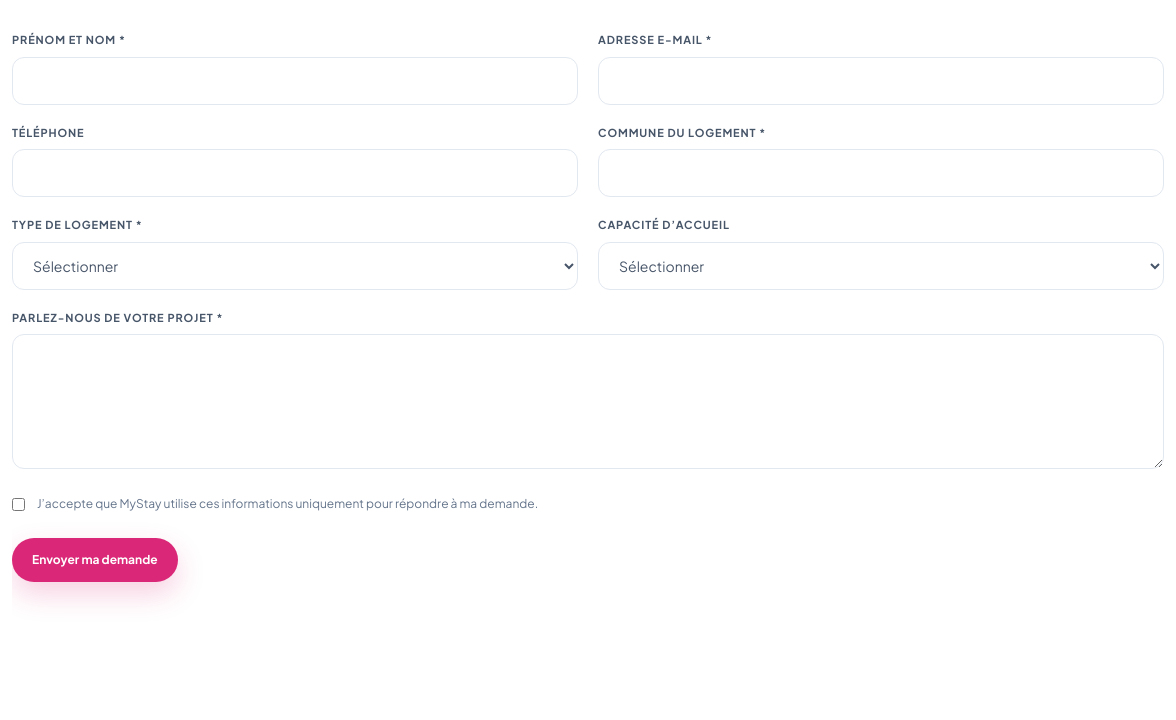
Test: 031 AC-04-03 owner lead form › submits to the public API and renders the exact success message
This screenshot has width=1176, height=720.
Type "Marie Dupont" into the field labelled "Prénom et nom *".
click(295, 80); type("Marie Dupont")  # box [12,56,578,104]
Type "marie@example.test" into the field labelled "Adresse e-mail *".
click(881, 80); type("marie@example.test")  # box [598,56,1164,104]
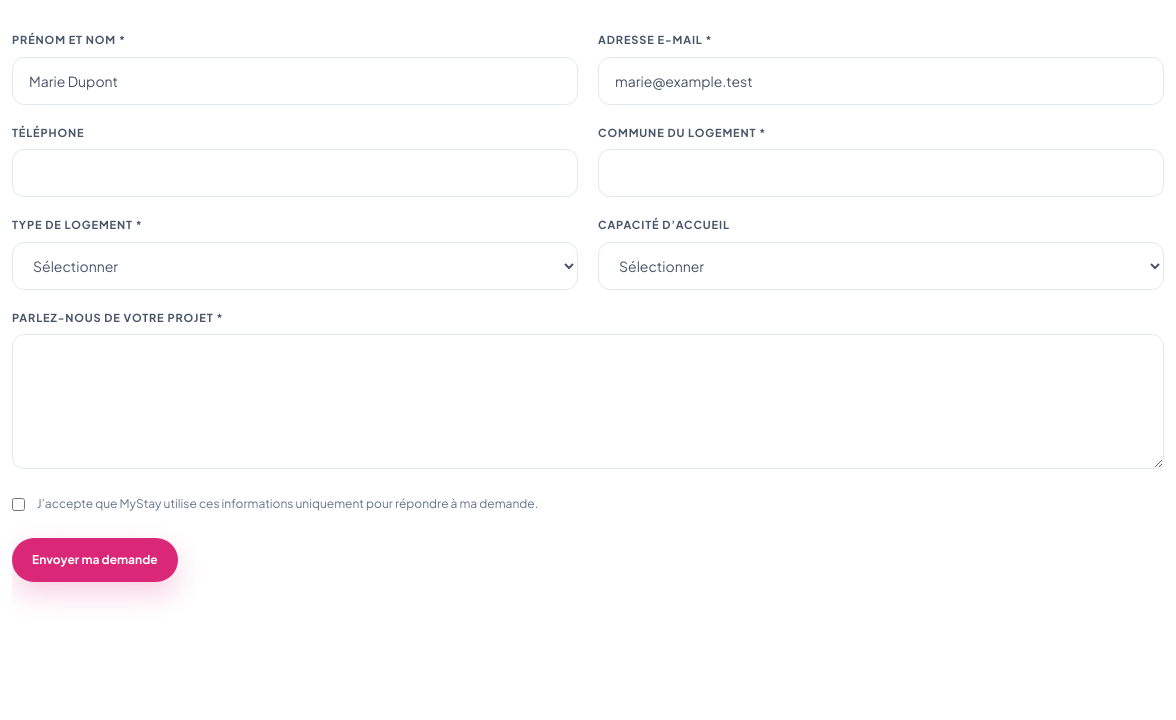
Type "Saint-Nicolas-de-Véroce" into the field labelled "Commune du logement *".
click(881, 173); type("Saint-Nicolas-de-Véroce")  # box [598,149,1164,197]
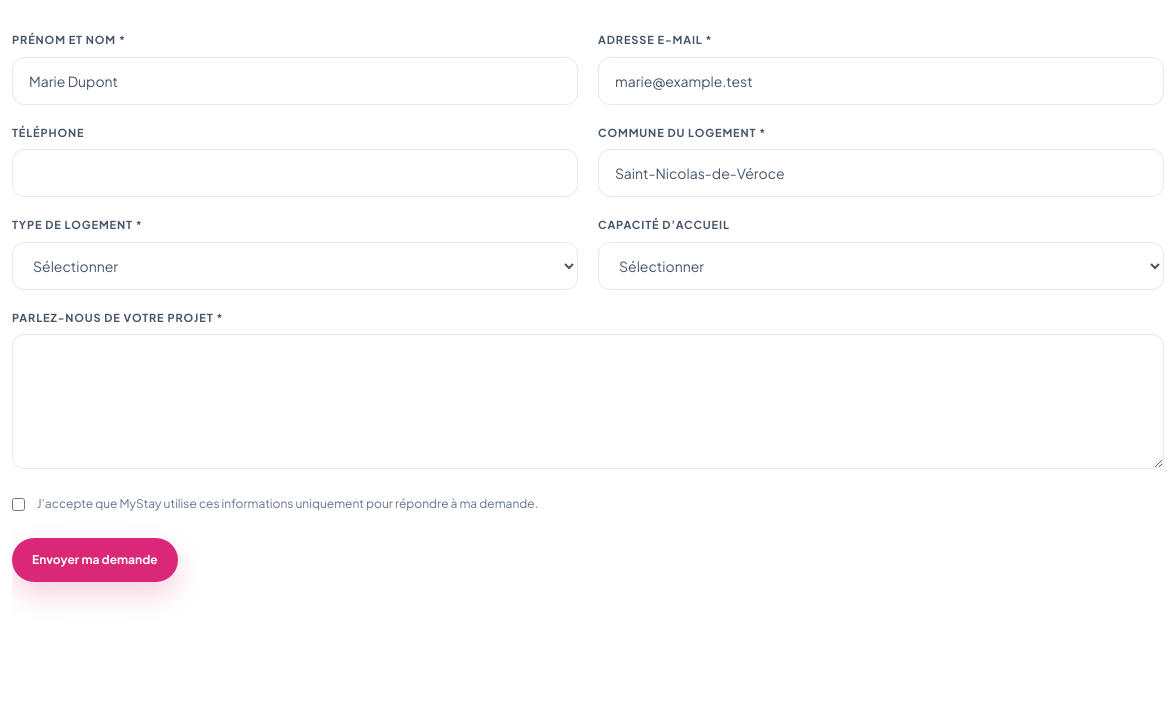
Select "Chalet" in the dropdown labelled "Type de logement *" at (295, 266), box [12,242,578,290]
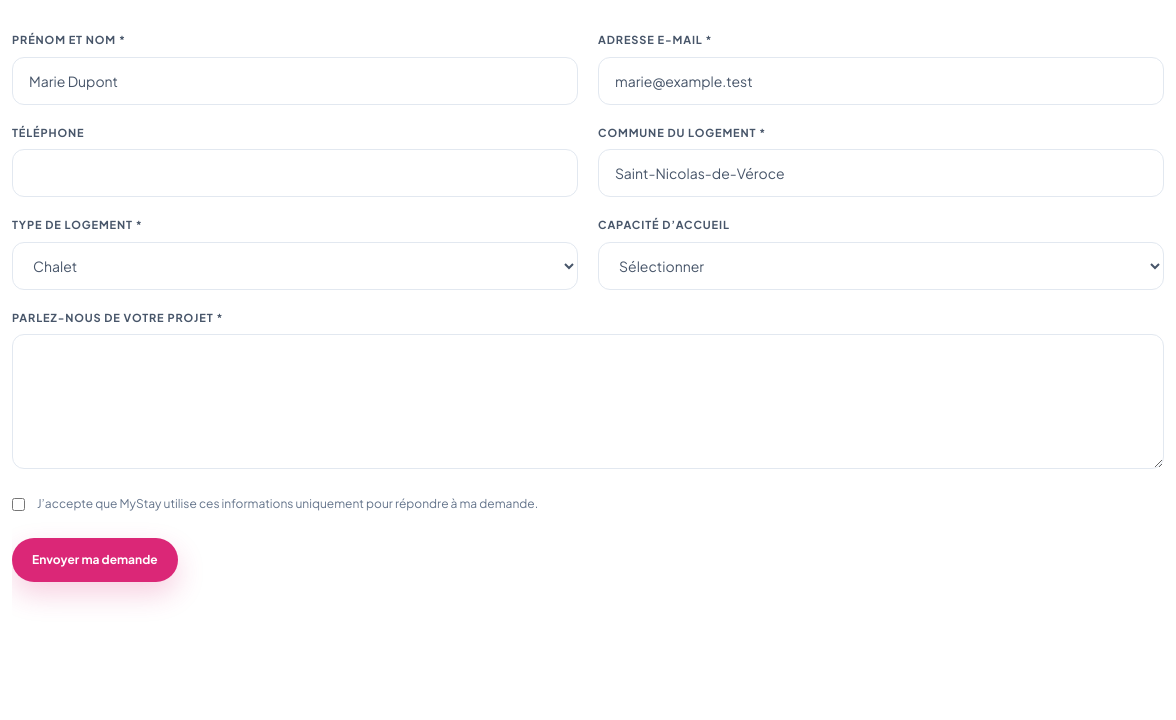
Type "Je souhaite déléguer la gestion de mon chalet." into the text box labelled "Parlez-nous de votre projet *".
click(588, 402); type("Je souhaite déléguer la gestion de mon chalet.")  # box [12,334,1164,469]
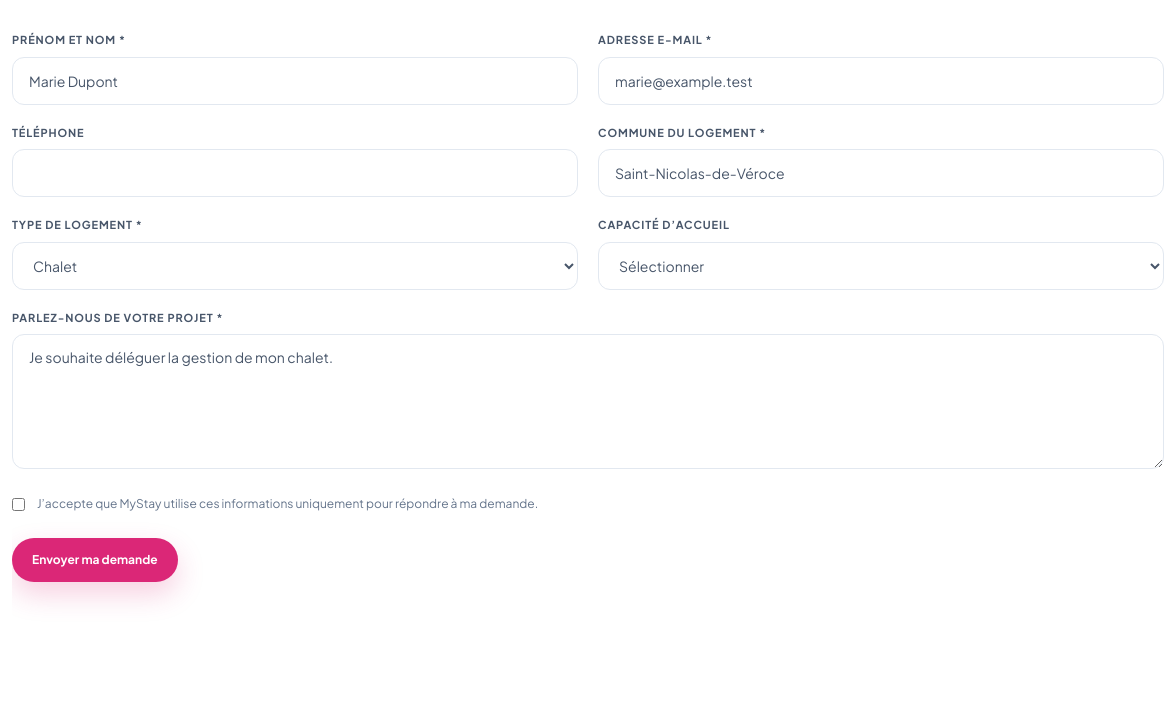
Click the checkbox labelled "J’accepte".
click(18, 504)  # box [12,498,25,510]
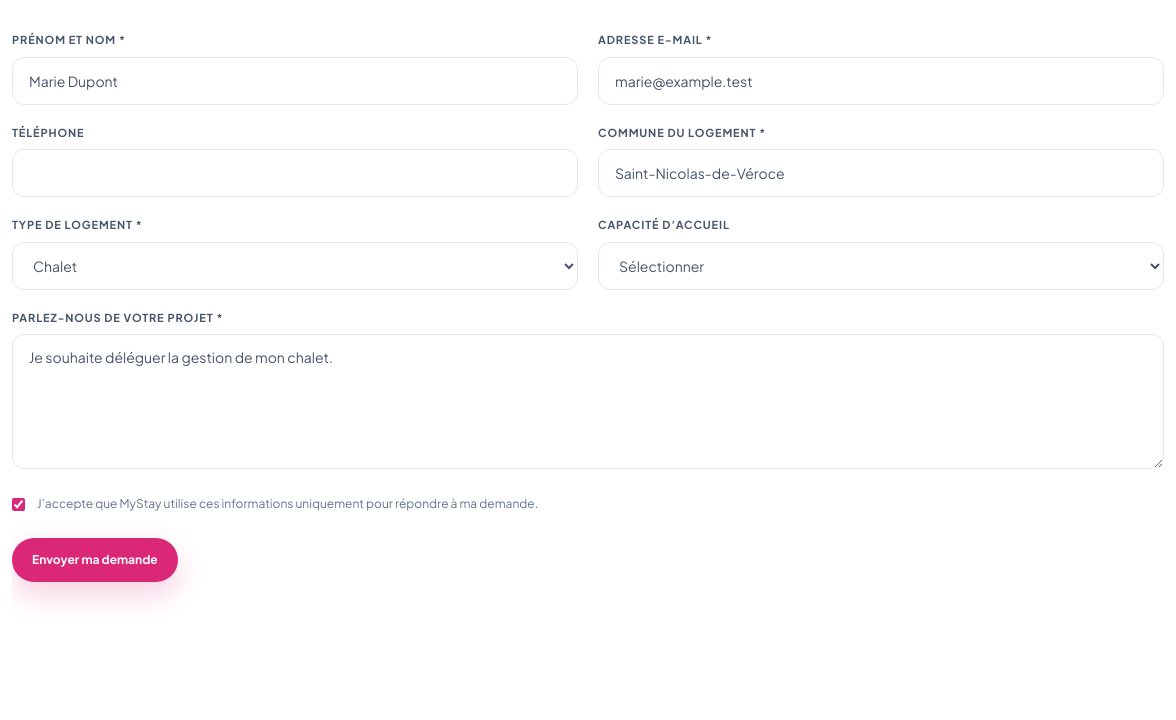
Click the button "Envoyer ma demande".
click(95, 560)  # box [12,538,178,582]
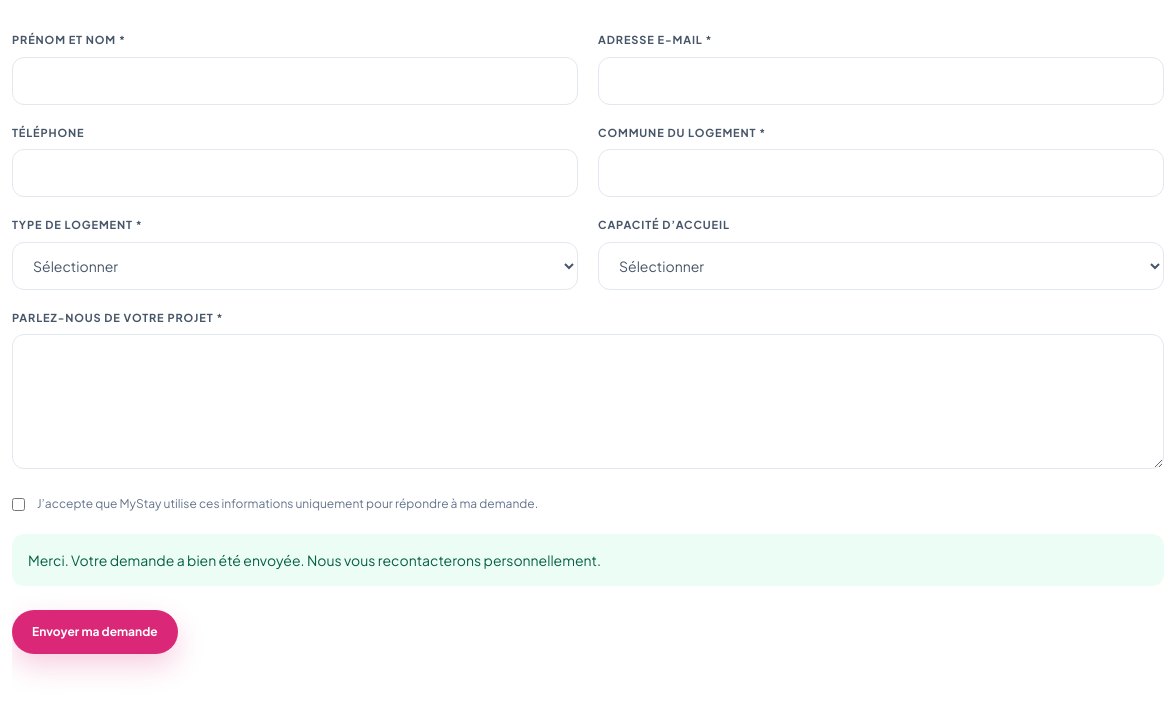
Expected: the message shows "Merci. Votre demande a bien été envoyée. Nous vous recontacterons personnellement.", [28,550,601,568]
